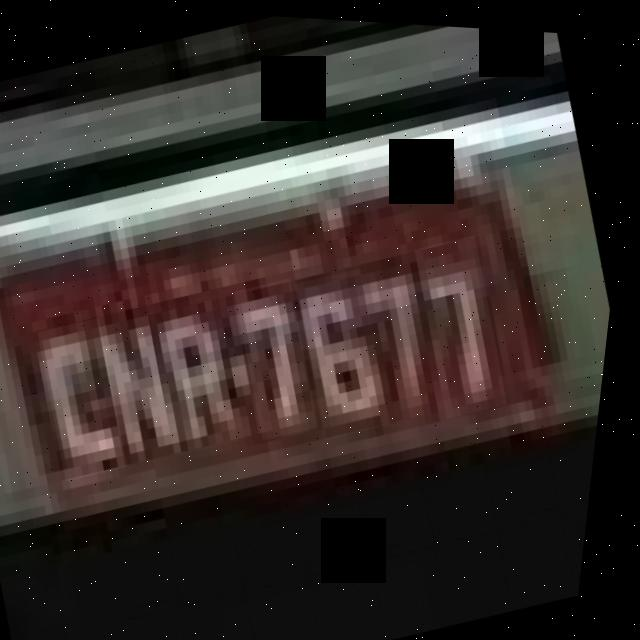6: (287, 261, 413, 438)
7: (405, 226, 530, 415), (227, 271, 340, 438), (352, 248, 463, 418)
C: (32, 312, 150, 482)
N: (90, 304, 204, 471)
R: (143, 287, 266, 456)
